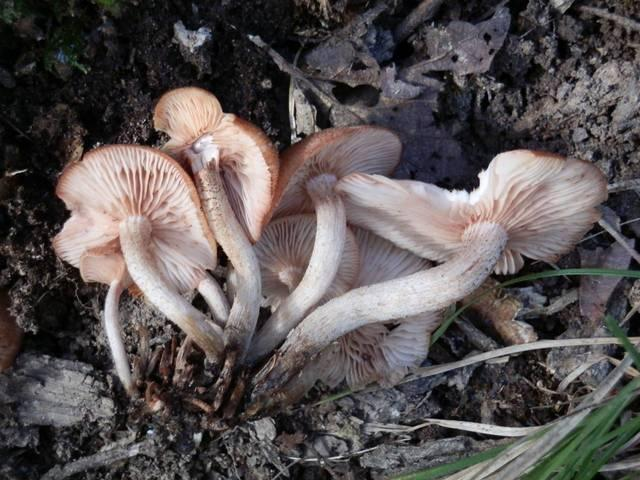Edible Mushroom: (154, 79, 609, 371), (50, 142, 229, 396)
